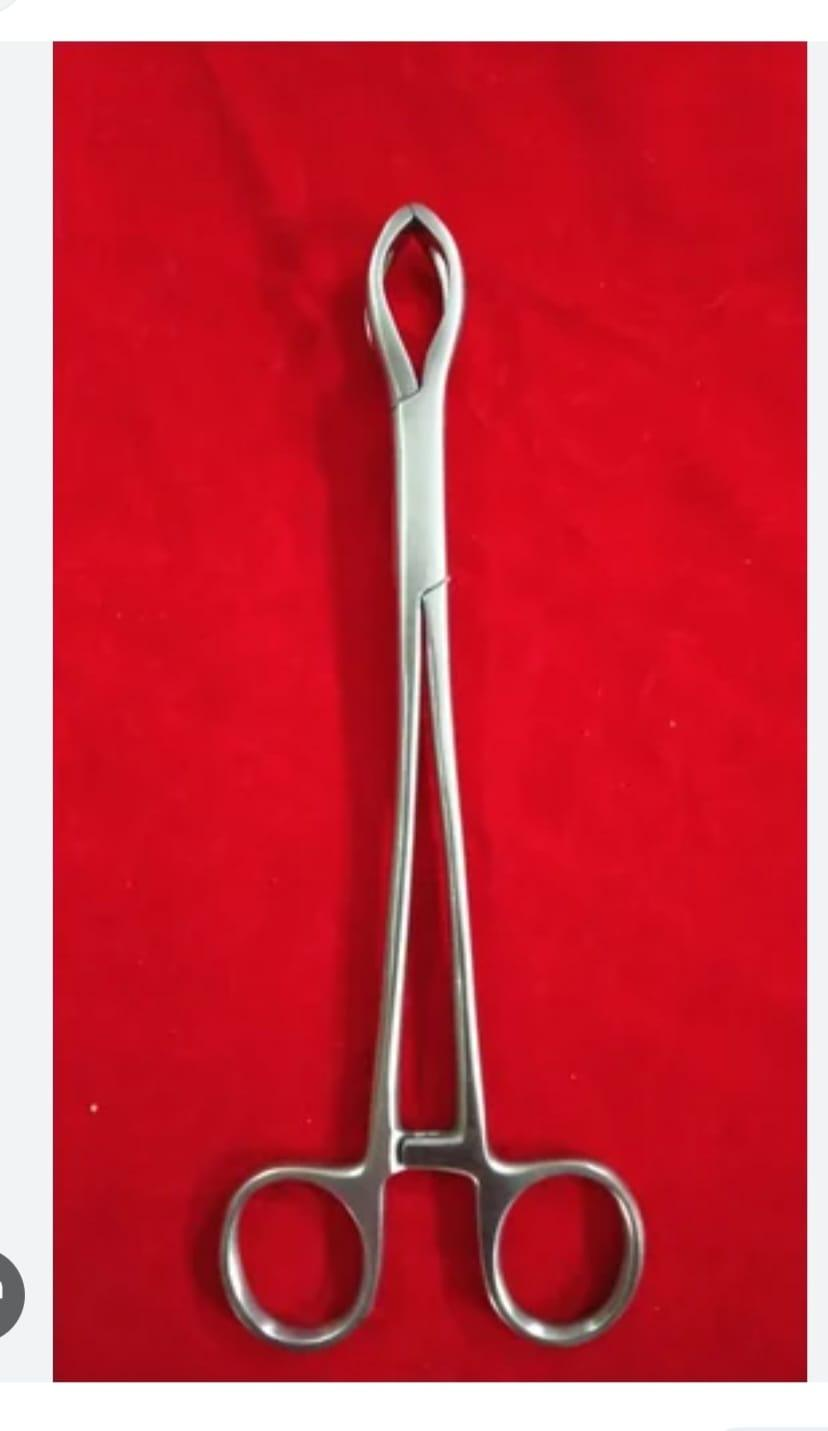Lane Tissue Forceps: (214, 198, 640, 1336)
